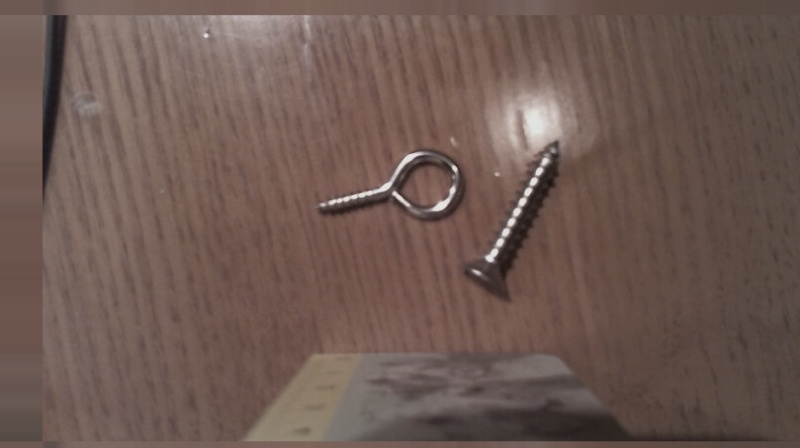O001: (312, 146, 469, 222)
S001: (456, 138, 566, 301)
